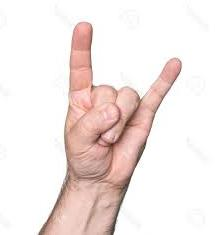Rock: (55, 16, 182, 189)
